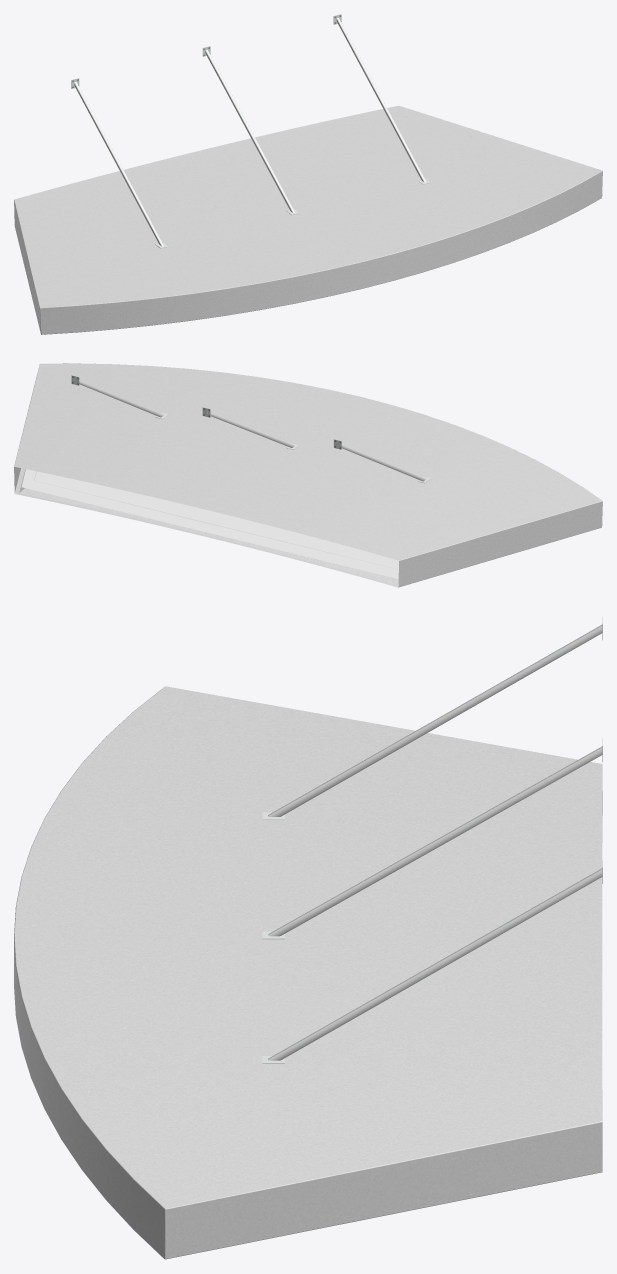
Rendered from DoorAwning01_4.FBX.
3 renders of one model, top to bottom at view 1: azimuth 30°, elevation 25°; view 2: azimuth 150°, elevation 25°; view 3: azimuth 270°, elevation 25°, orthographic. The views are drawn at different scales.
Visible parts, largest first — view 1: DoorAwning01; view 2: DoorAwning01, PanelLight01; view 3: DoorAwning01.
Part boxes in pixels (left/top/right/bottom): DoorAwning01: left=14, top=14, right=602, bottom=334; DoorAwning01: left=14, top=363, right=602, bottom=587; PanelLight01: left=21, top=469, right=398, bottom=578; DoorAwning01: left=14, top=616, right=602, bottom=1259.
Size of the model in its own units: 824 by 189 by 392.
